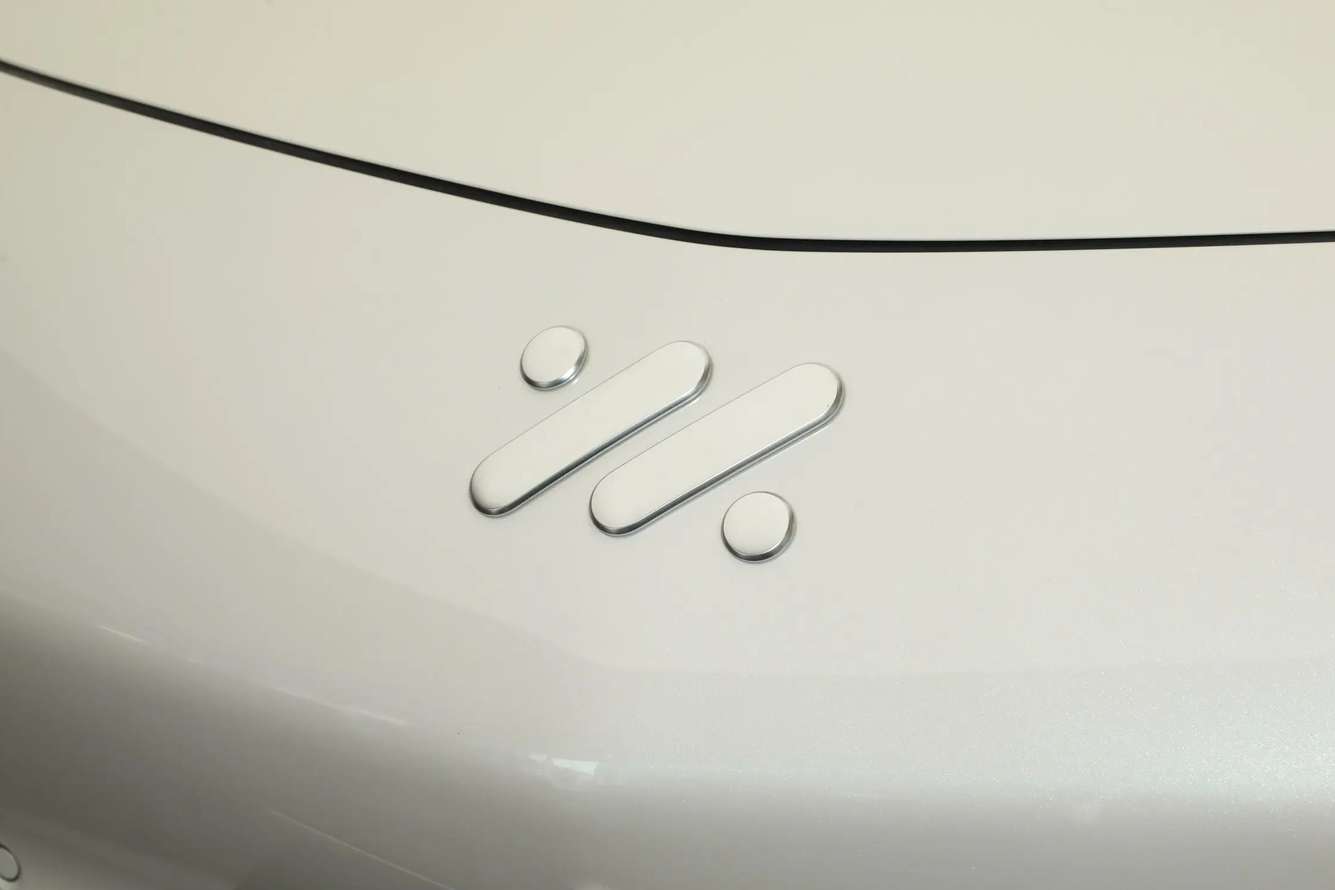IM: (470, 326, 844, 562)
